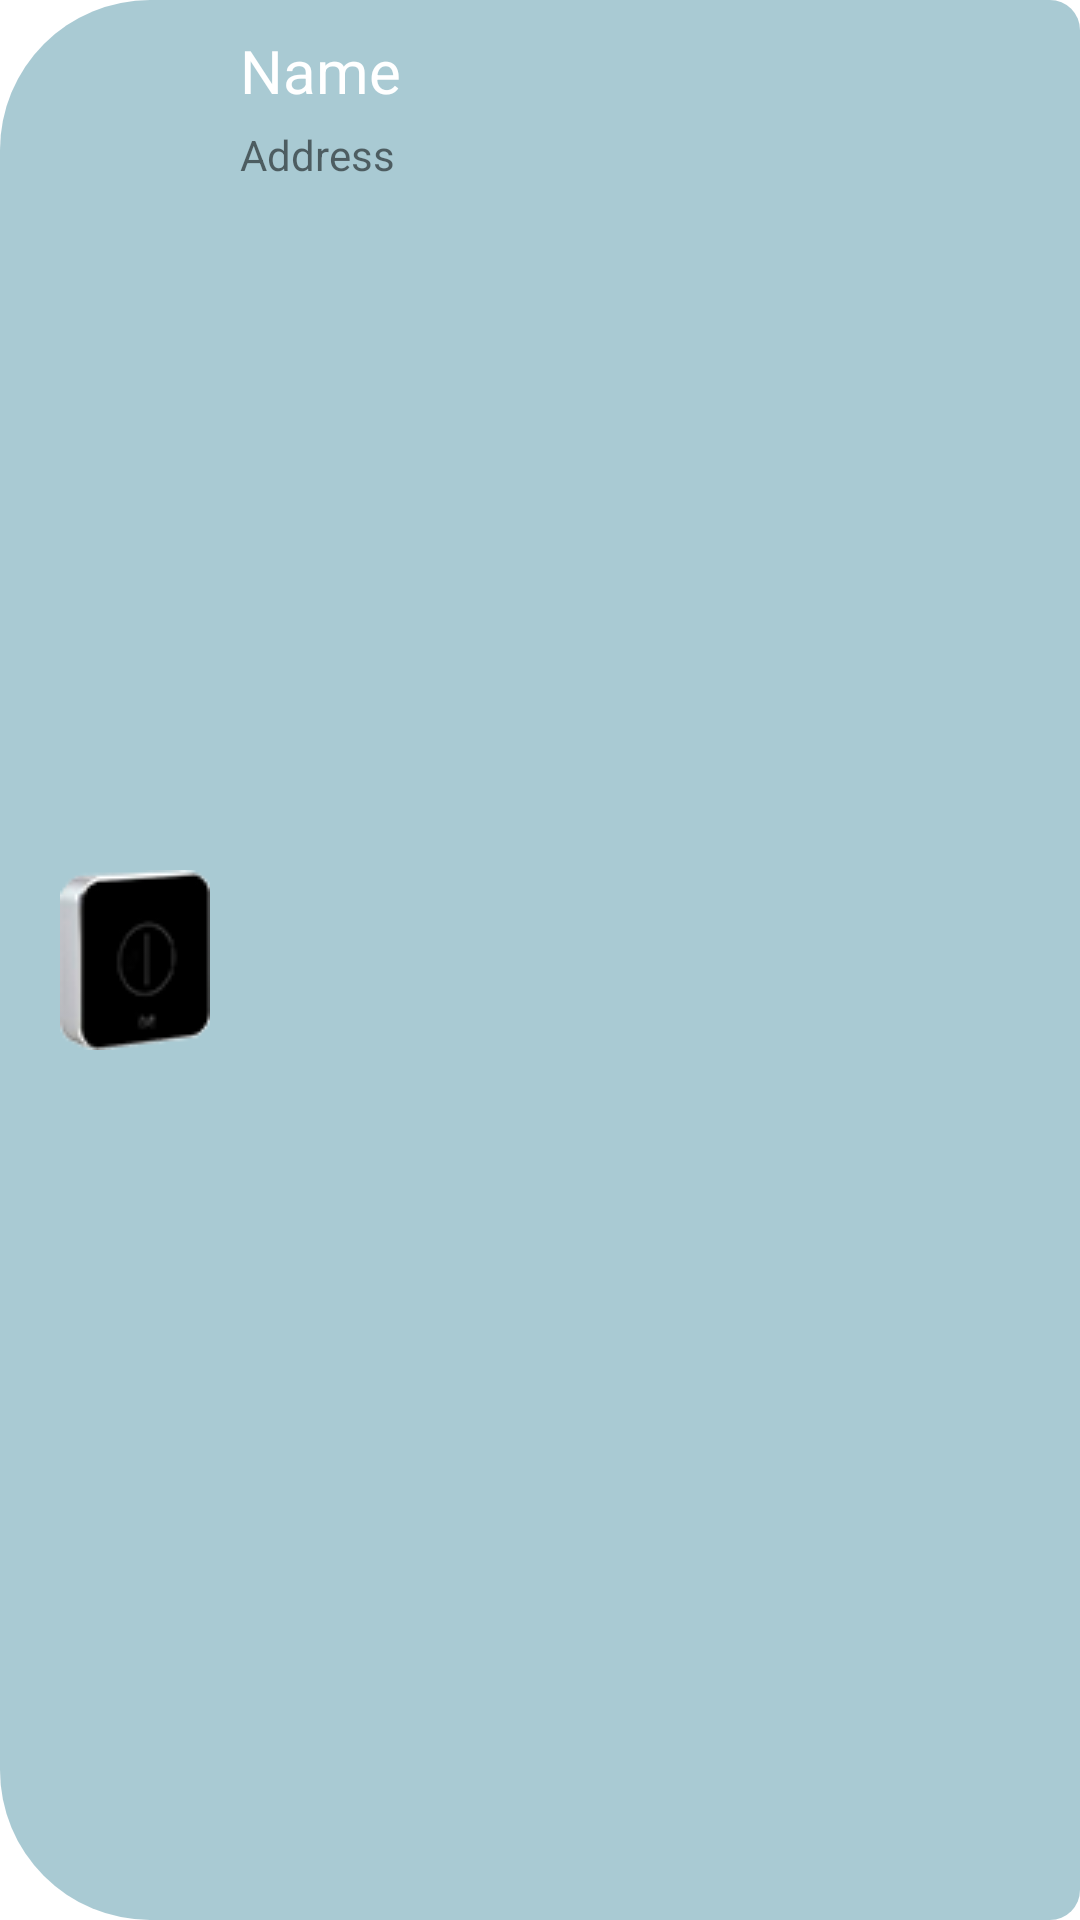

Named icons in this screenshot (1080 × 1920) and their bounding boxes, (x1, y1, x2, y2):
device: (60, 870, 210, 1050)
